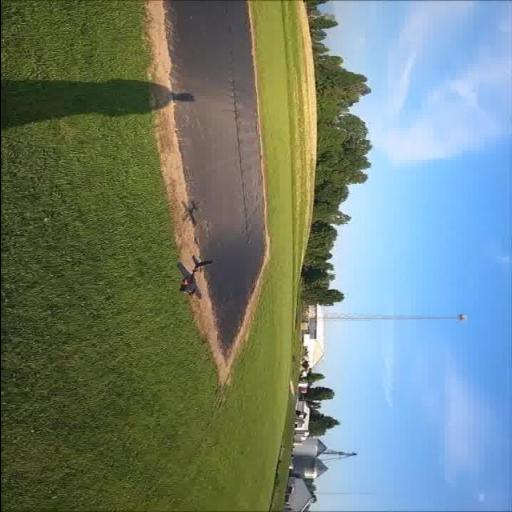uav: (164, 251, 216, 299)
